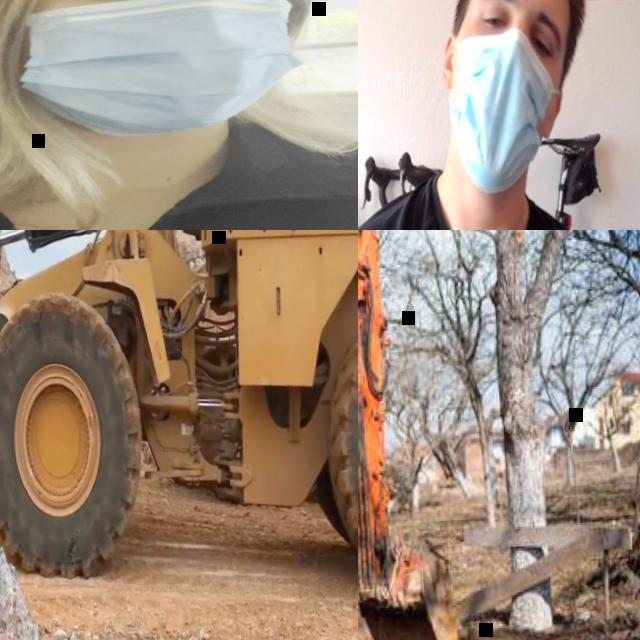machinery: (0, 230, 358, 640), (358, 230, 472, 640)
mask: (16, 0, 302, 140), (443, 29, 568, 200)
no_vest: (0, 126, 358, 230)
person: (0, 0, 358, 230), (358, 0, 640, 230)
